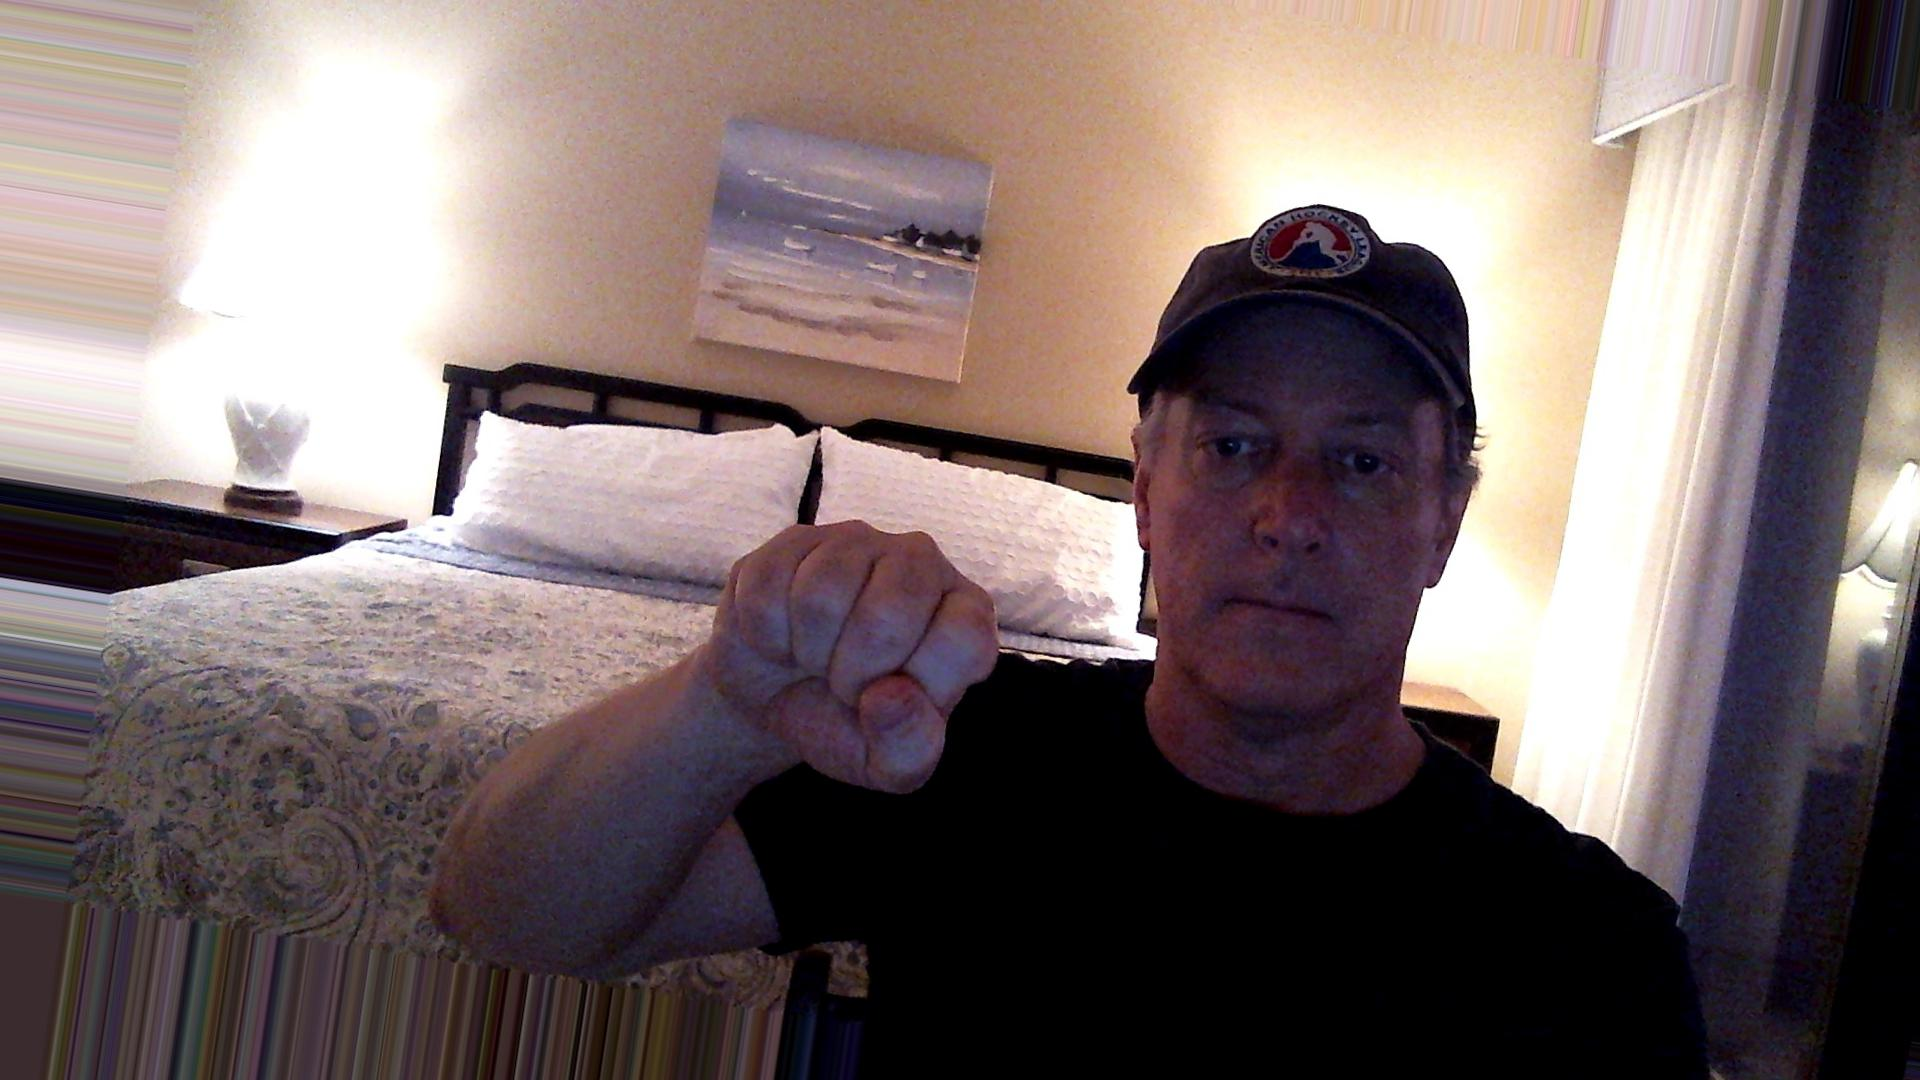Yes: (694, 506, 1033, 812)
